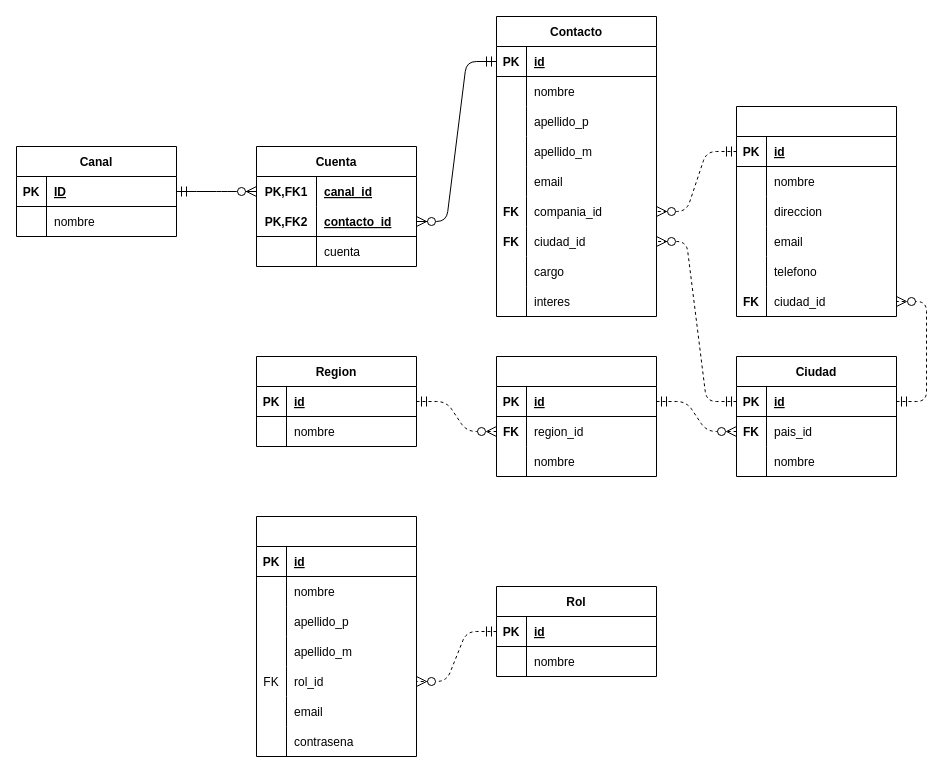
The diagram is 943 pixels wide and 773 high, and some of its shapes have lost their labels. The shapes that lost their labels are listed below. From the top down, each one's box as (x1, y1, x2, y2) in pixels, then its label:
(736, 106, 896, 316): Compania
(496, 356, 656, 476): Pais
(256, 516, 416, 756): Usuario
